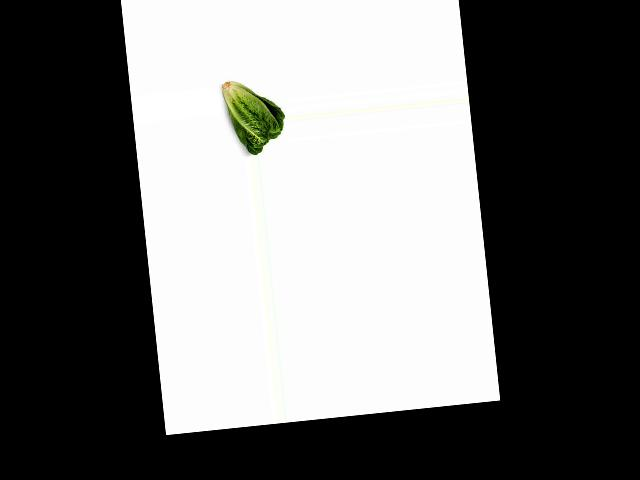lettuce: (219, 74, 287, 157)
